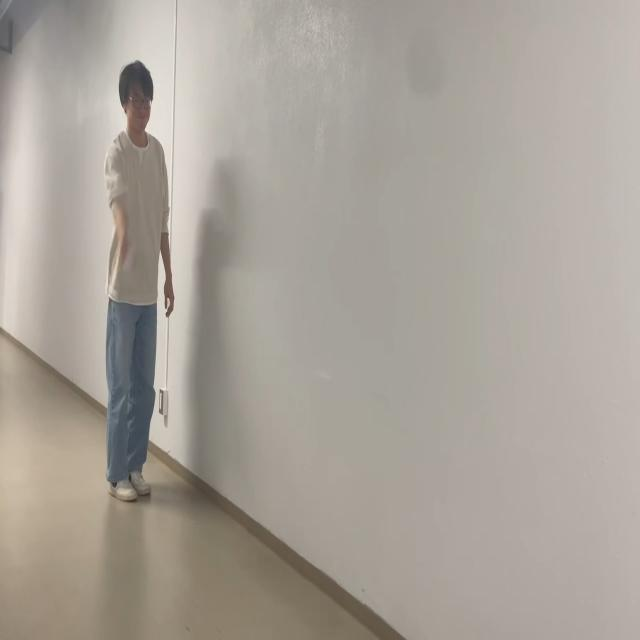paper: (122, 250, 136, 276)
